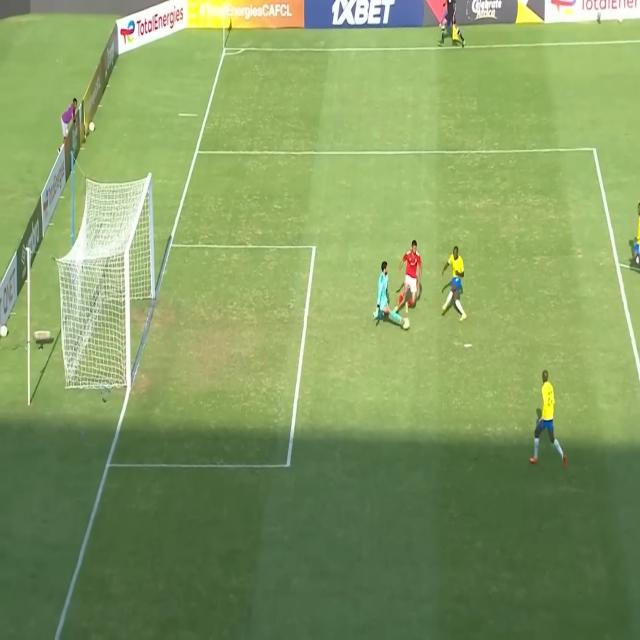Ball: (399, 310, 412, 334)
Keeper: (374, 257, 405, 326)
Player: (530, 370, 567, 470), (394, 238, 424, 314), (441, 246, 468, 324), (632, 201, 640, 270)
Ref: (438, 0, 467, 48)
